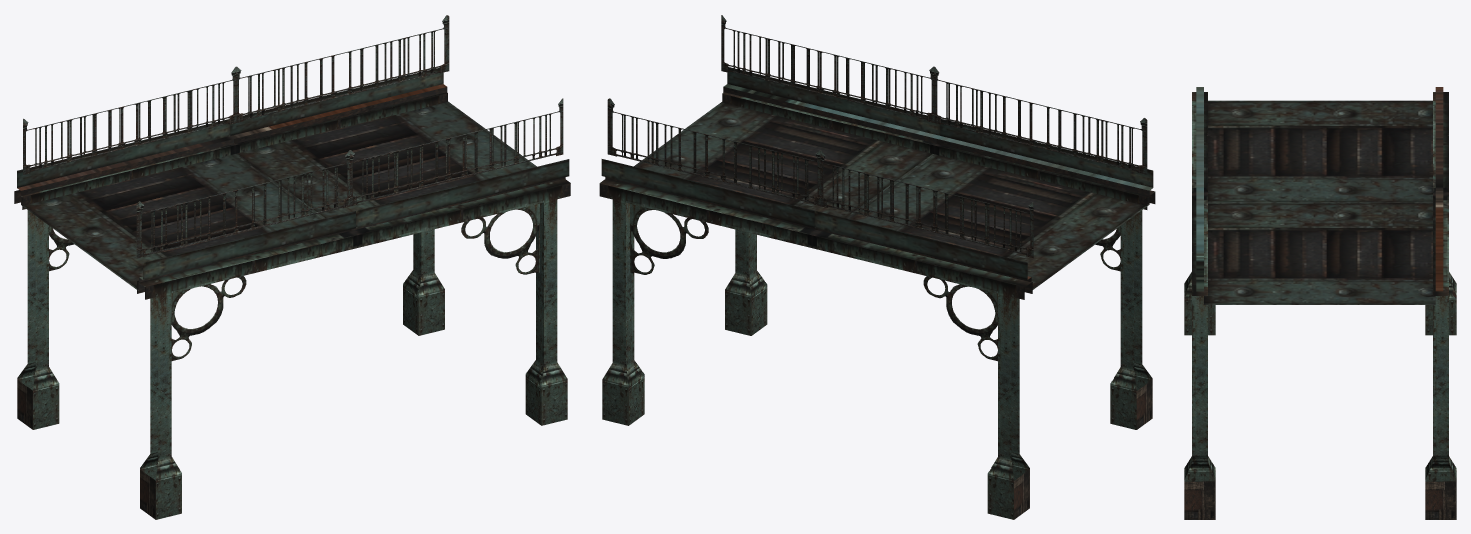
Rendered from B04Bridge.fbx.
The picture shows the model from 3 angles, left to right: view 1: azimuth 30°, elevation 25°; view 2: azimuth 150°, elevation 25°; view 3: azimuth 270°, elevation 25°; orthographic projection.
Parts seen in each view (by area): view 1: Bridge; view 2: Bridge; view 3: Bridge.
Boxes of the visible parts, x1,y1,x2,y2 form: Bridge: (14, 15, 570, 519); Bridge: (599, 15, 1155, 519); Bridge: (1184, 87, 1456, 519).
Bounding box in the file's own units: 2.01 × 1.4 × 1.13.
1 material, 1 textured.
